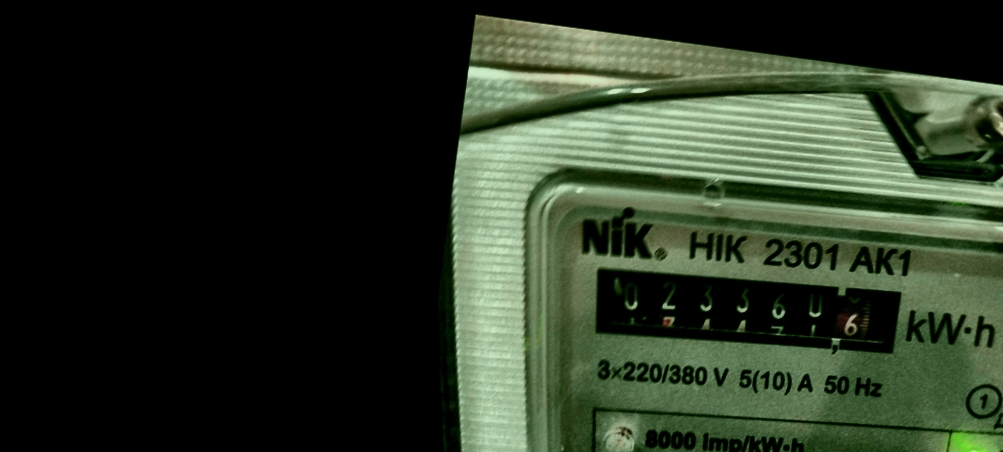0: (616, 277, 642, 314), (800, 288, 825, 321)
2: (655, 277, 680, 313)
3: (730, 280, 753, 315), (691, 281, 714, 314)
6: (764, 287, 789, 322), (837, 306, 862, 341)
screen: (570, 241, 918, 380)
